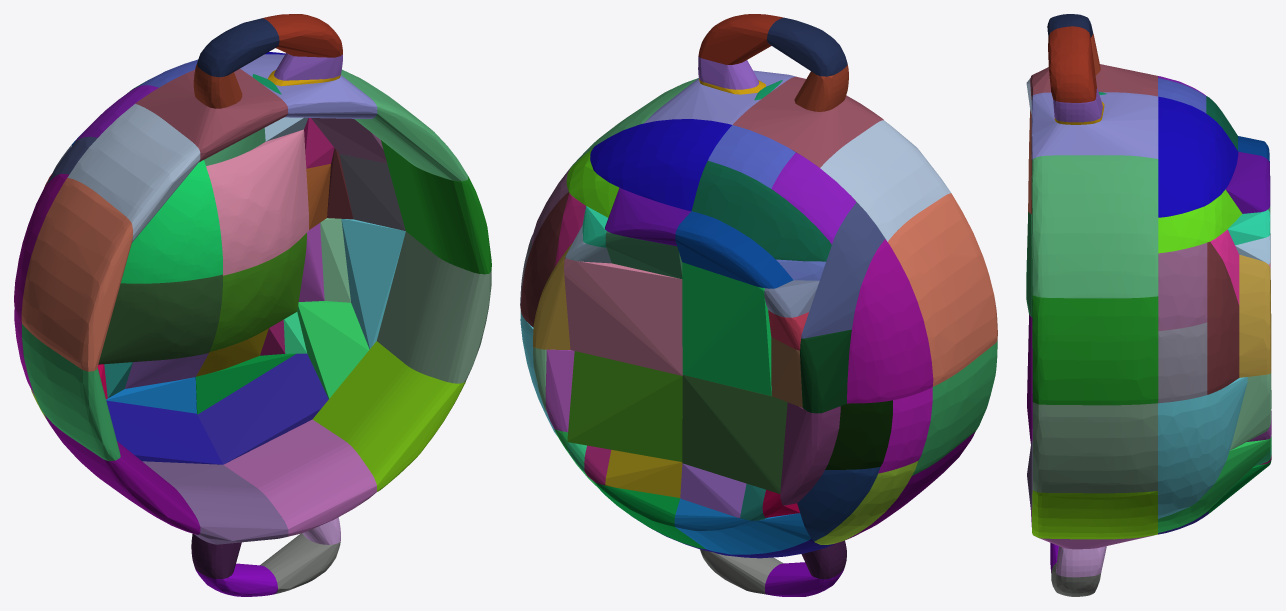
The model's file is coacd_collision.obj.
3 views of the same model, side by side, from view 1: azimuth 30°, elevation 25°; view 2: azimuth 150°, elevation 25°; view 3: azimuth 270°, elevation 25° (orthographic). The views are drawn at different scales.
Visible parts, largest first — view 1: geometry_9, geometry_0, geometry_4, geometry_24, geometry_7, geometry_6, geometry_19, geometry_23, geometry_18, geometry_8, geometry_1, geometry_10 (+35 smaller); view 2: geometry_9, geometry_24, geometry_30, geometry_14, geometry_23, geometry_19, geometry_5, geometry_6, geometry_66, geometry_13, geometry_16, geometry_42 (+42 smaller); view 3: geometry_3, geometry_8, geometry_0, geometry_2, geometry_5, geometry_12, geometry_4, geometry_65, geometry_41, geometry_37, geometry_45, geometry_15 (+20 smaller).
Boxes of the visible parts, x1=… form: geometry_9: x1=21, y1=178, x2=132, y2=371; geometry_0: x1=377, y1=231, x2=491, y2=383; geometry_4: x1=312, y1=341, x2=465, y2=491; geometry_24: x1=206, y1=129, x2=308, y2=275; geometry_7: x1=223, y1=419, x2=376, y2=536; geometry_6: x1=67, y1=103, x2=200, y2=242; geometry_19: x1=98, y1=274, x2=222, y2=364; geometry_23: x1=121, y1=160, x2=222, y2=283; geometry_18: x1=197, y1=353, x2=328, y2=464; geometry_8: x1=381, y1=140, x2=491, y2=274; geometry_1: x1=142, y1=461, x2=288, y2=544; geometry_10: x1=22, y1=324, x2=120, y2=461; geometry_9: x1=888, y1=193, x2=997, y2=386; geometry_24: x1=564, y1=257, x2=682, y2=375; geometry_30: x1=567, y1=351, x2=682, y2=461; geometry_14: x1=847, y1=239, x2=933, y2=403; geometry_23: x1=682, y1=262, x2=771, y2=395; geometry_19: x1=682, y1=375, x2=787, y2=493; geometry_5: x1=590, y1=119, x2=731, y2=211; geometry_6: x1=820, y1=120, x2=950, y2=241; geometry_66: x1=691, y1=161, x2=831, y2=261; geometry_13: x1=733, y1=76, x2=883, y2=167; geometry_16: x1=801, y1=202, x2=884, y2=338; geometry_42: x1=675, y1=211, x2=793, y2=288; geometry_3: x1=1031, y1=155, x2=1158, y2=298; geometry_8: x1=1032, y1=295, x2=1158, y2=405; geometry_0: x1=1032, y1=402, x2=1157, y2=493; geometry_2: x1=1158, y1=377, x2=1247, y2=518; geometry_5: x1=1158, y1=96, x2=1238, y2=217; geometry_12: x1=1031, y1=92, x2=1158, y2=161; geometry_4: x1=1032, y1=490, x2=1157, y2=539; geometry_65: x1=1207, y1=241, x2=1239, y2=394; geometry_41: x1=1158, y1=242, x2=1207, y2=330; geometry_37: x1=1239, y1=254, x2=1271, y2=377; geometry_45: x1=1158, y1=322, x2=1207, y2=403; geometry_15: x1=1048, y1=26, x2=1096, y2=102.
Size of the model in its own units: 151 by 199 by 79.7.
